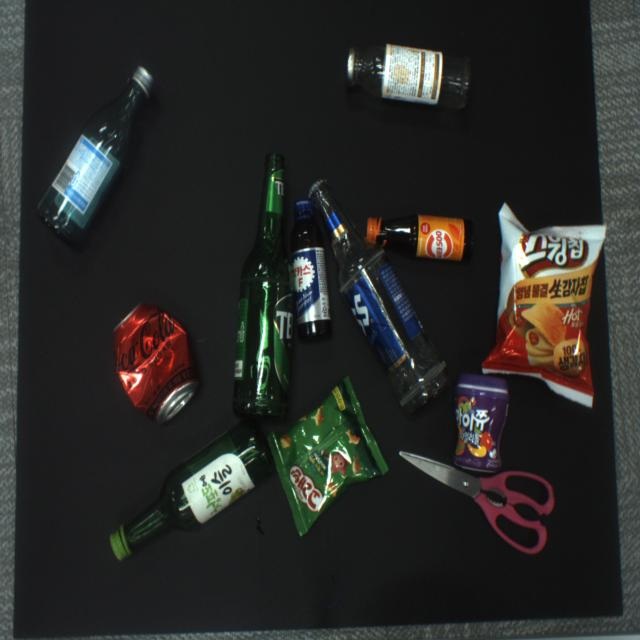beer-bottle: (308, 181, 450, 413), (233, 154, 296, 421)
soju-bottle: (110, 420, 274, 560), (38, 67, 153, 242)
